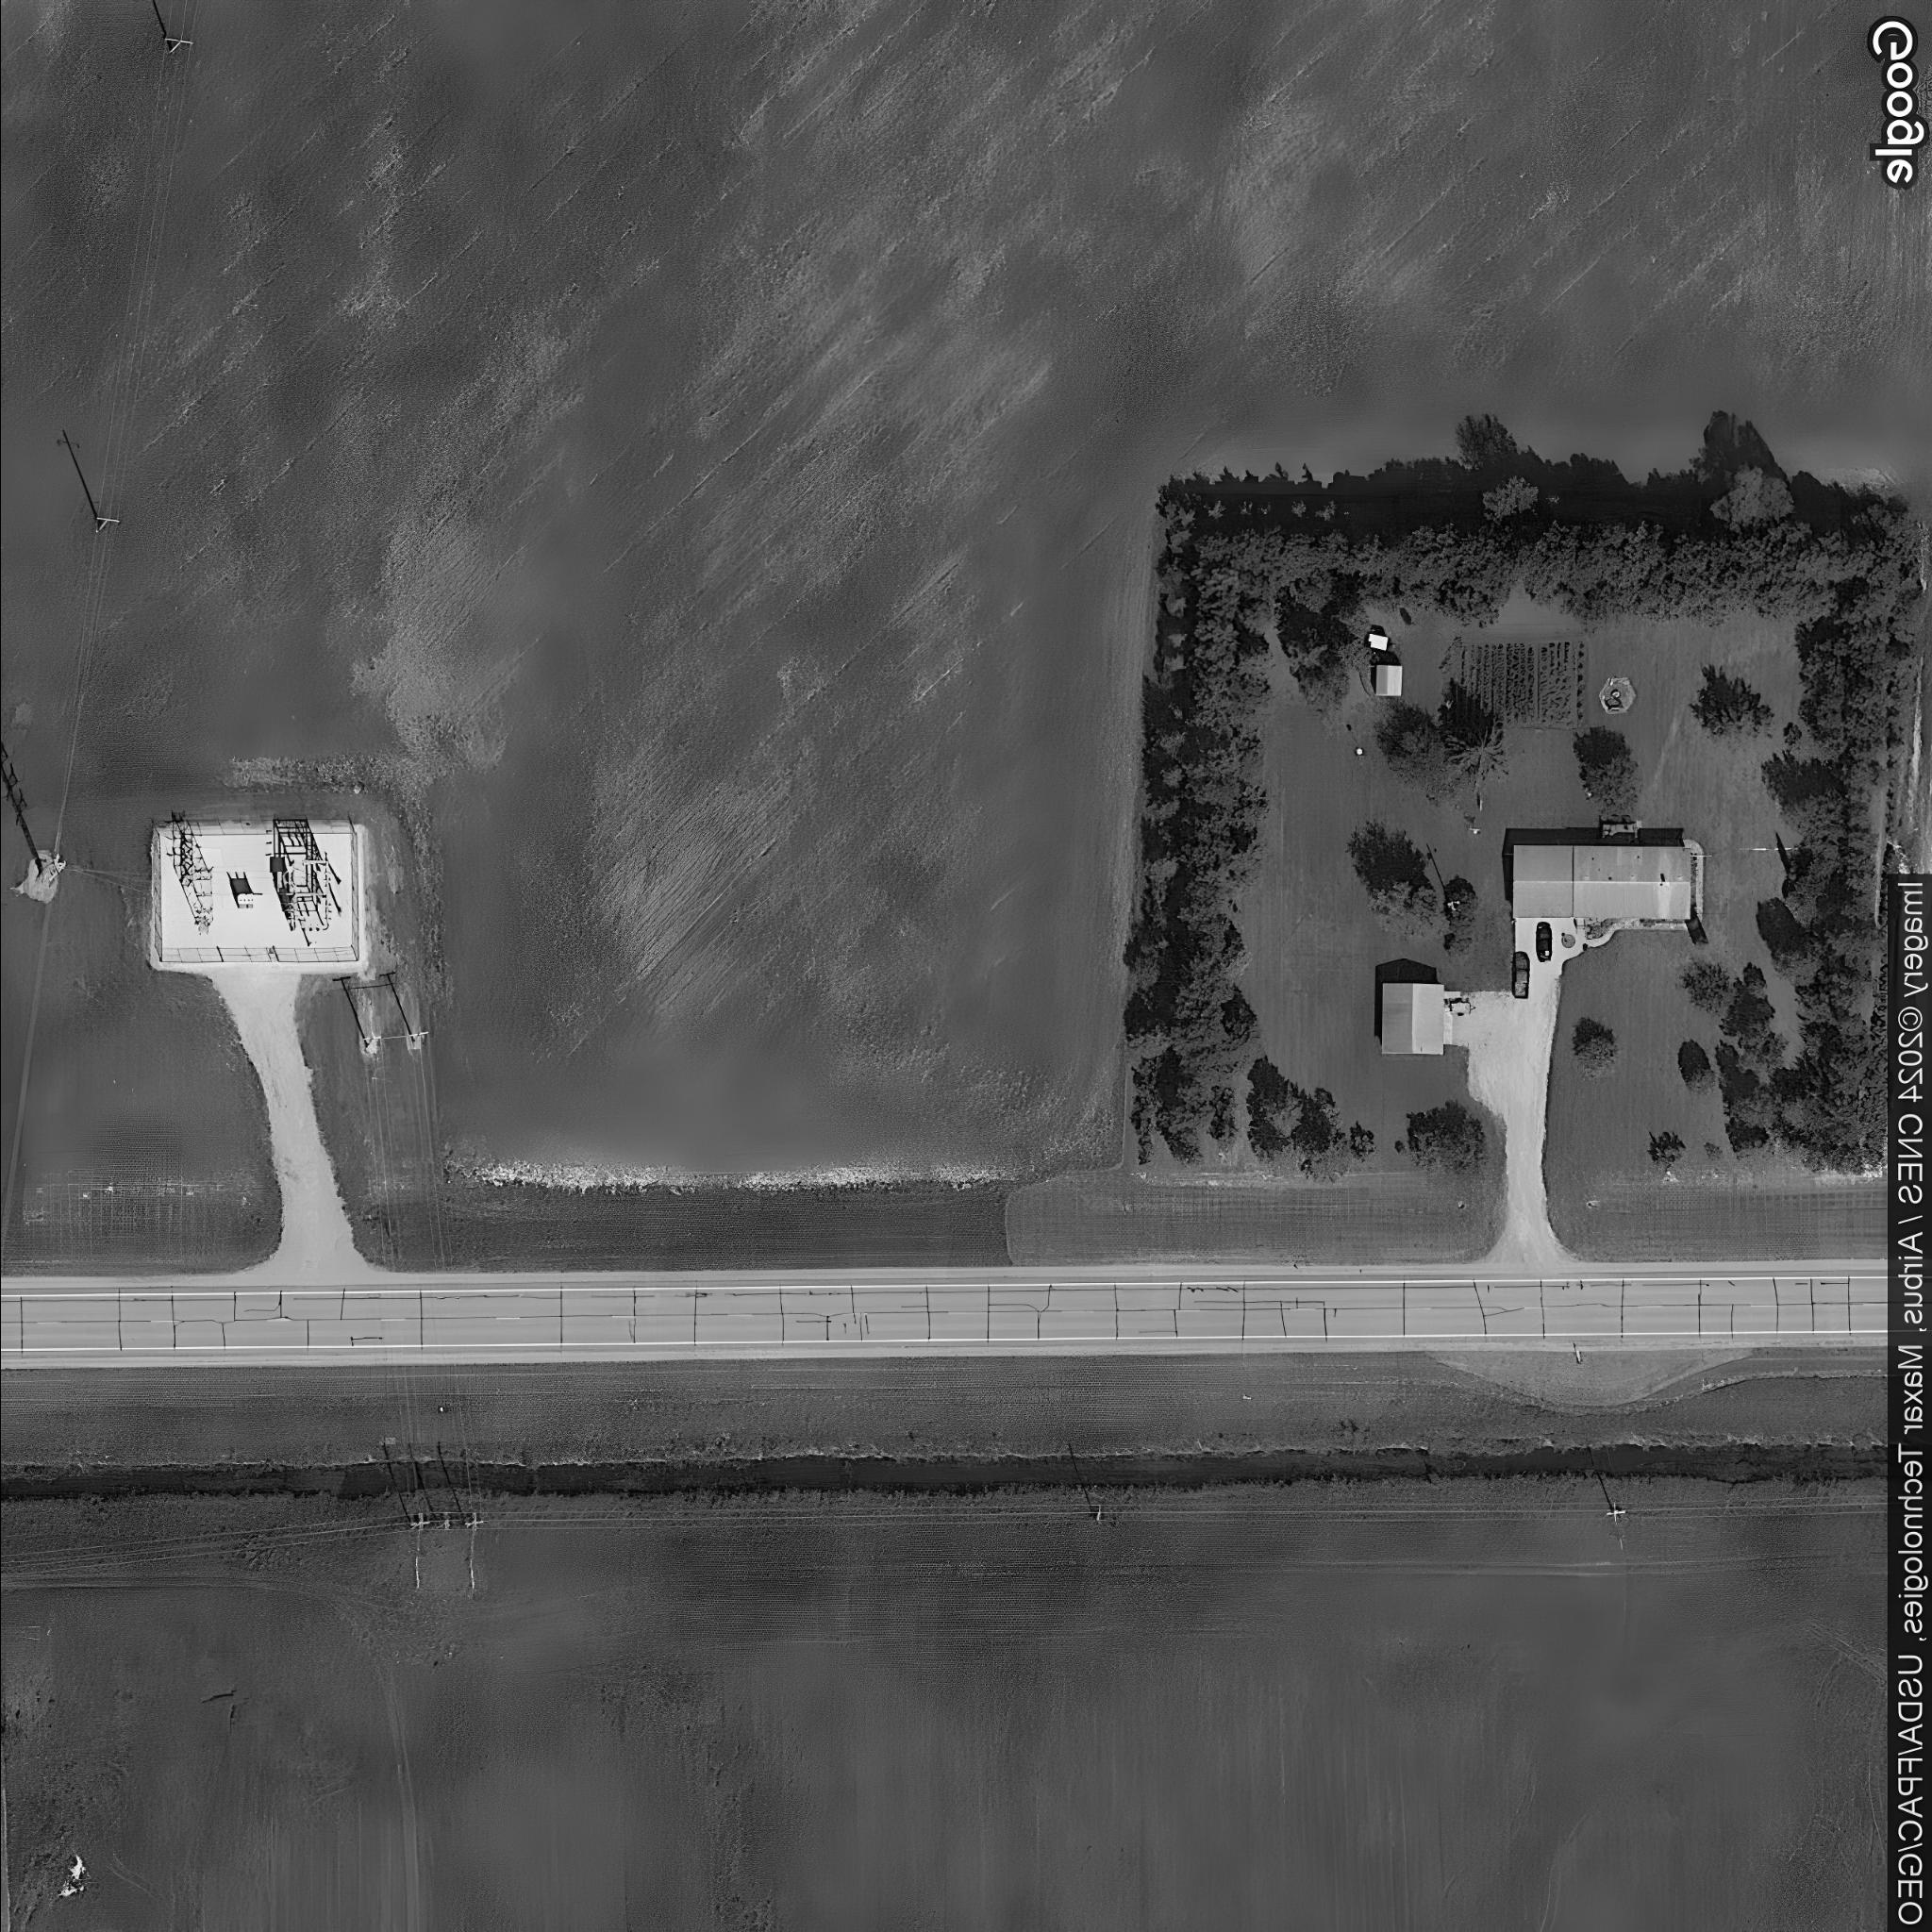Garage: (1380, 984, 1442, 1054)
House: (1511, 842, 1690, 920)
